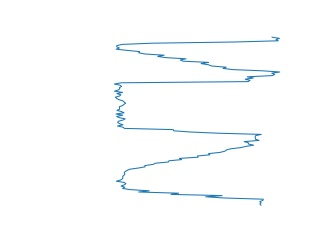distributaryChannelFill: (112, 73, 267, 141)
mouthBar: (111, 34, 284, 79)
underwaterDistributaryChannel: (114, 138, 268, 207)
